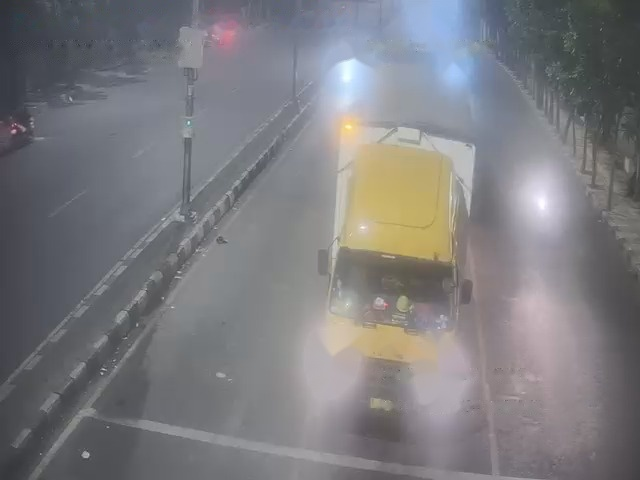Mobil: (0, 100, 38, 149)
Motor: (532, 190, 555, 225)
Truk: (325, 122, 476, 446)
